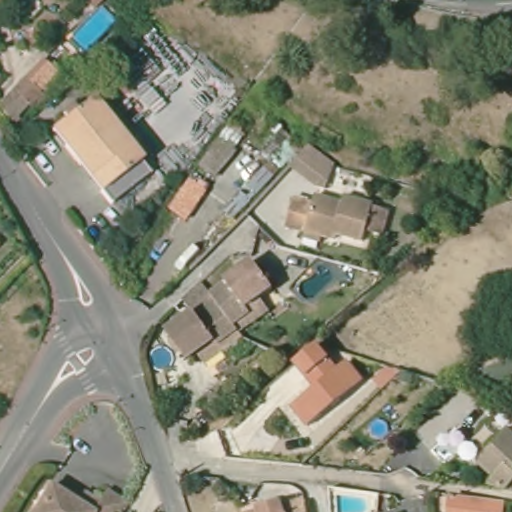pool: (71, 4, 119, 54), (293, 259, 337, 302), (142, 338, 177, 376), (330, 484, 375, 512), (363, 413, 393, 444)
